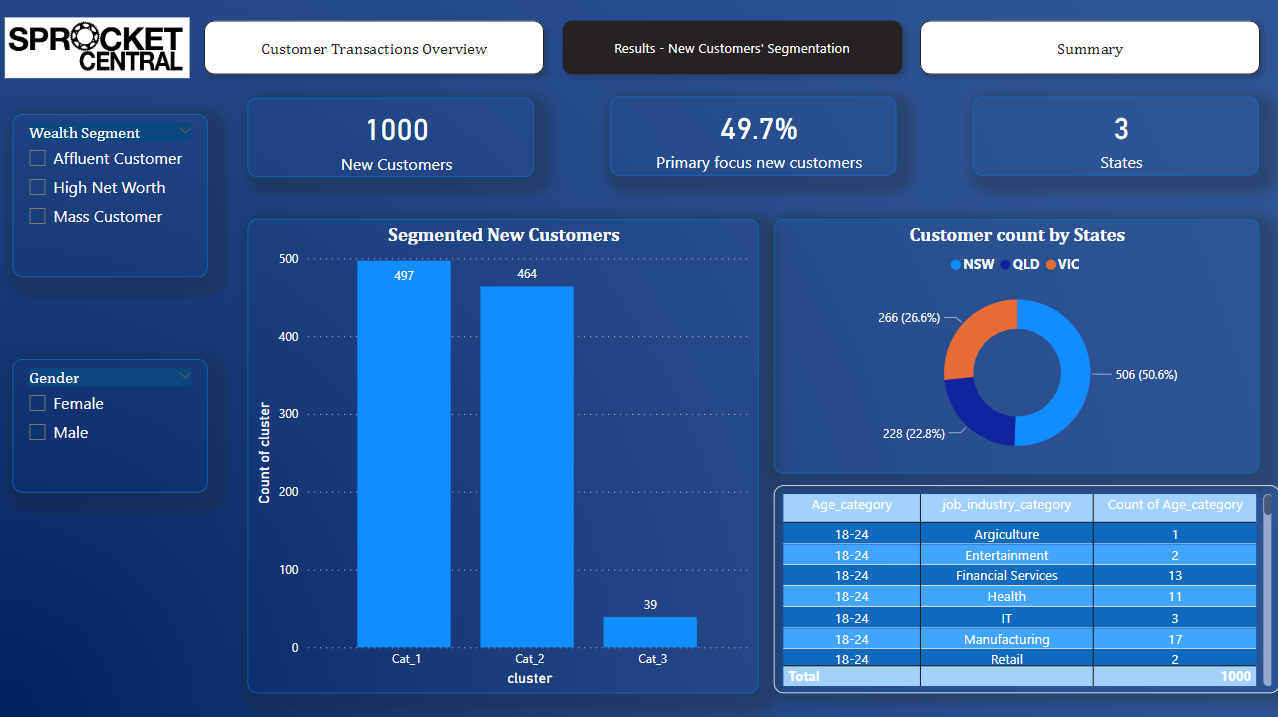

This screenshot's page, from the dashboard's own definition file:
{"tool":"powerbi","page":{"name":"Results - New Customers Segmentation","canvas":[1280,720],"ordinal":1},"visuals":[{"type":"image","box":[0,0,194.8,97.4],"z":0},{"type":"bookmarkNavigator","box":[194.8,12.5,1075.5,72.3],"z":1000},{"type":"card","fields":{"Values":["New Customers.Primary focus new customers"]},"box":[610,97.8,286,79.5],"z":2000},{"type":"card","fields":{"Values":["CountNonNull(New Customers.Age_category)"]},"box":[246.9,99,286,79.5],"z":3000},{"type":"columnChart","title":"Segmented New Customers","fields":{"Category":["New Customers.cluster"],"Y":["CountNonNull(New Customers.cluster)"]},"box":[246.9,220,511,474.3],"z":4000},{"type":"card","fields":{"Values":["Count(New Customers.state)"]},"box":[973,97.8,286,79.5],"z":5000},{"type":"donutChart","title":"Customer count by States","fields":{"Y":["CountNonNull(New Customers.state)"],"Category":["New Customers.state"]},"box":[773.8,220,485.3,254.3],"z":6000},{"type":"tableEx","fields":{"Values":["New Customers.Age_category","New Customers.job_industry_category","CountNonNull(New Customers.Age_category)"]},"box":[773.8,486.5,506.1,207.8],"z":7000},{"type":"slicer","fields":{"Values":["New Customers.wealth_segment"]},"box":[12.1,114.6,195.4,162.8],"z":8000},{"type":"slicer","fields":{"Values":["New Customers.gender"]},"box":[12.1,360.6,195.4,133.9],"z":9000}]}

Visuals, with their boxes in screenshot pixels (x1, y1, x2, y2), scaled from the page's 1280x720 canvas onto the 1278x717 screenshot:
image: 0,0,194,97
bookmarkNavigator: 194,12,1268,84
card - New Customers.Primary focus new customers: 609,97,895,177
card - CountNonNull(New Customers.Age_category): 247,99,532,178
"Segmented New Customers" columnChart: 247,219,757,691
card - Count(New Customers.state): 971,97,1257,177
"Customer count by States" donutChart: 773,219,1257,472
tableEx - New Customers.Age_category x New Customers.job_industry_category: 773,484,1277,691
slicer - New Customers.wealth_segment: 12,114,207,276
slicer - New Customers.gender: 12,359,207,492
